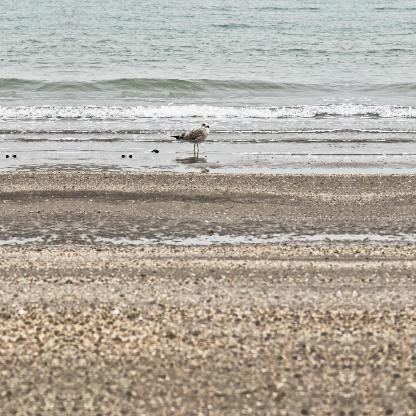Bird: (170, 117, 210, 161)
